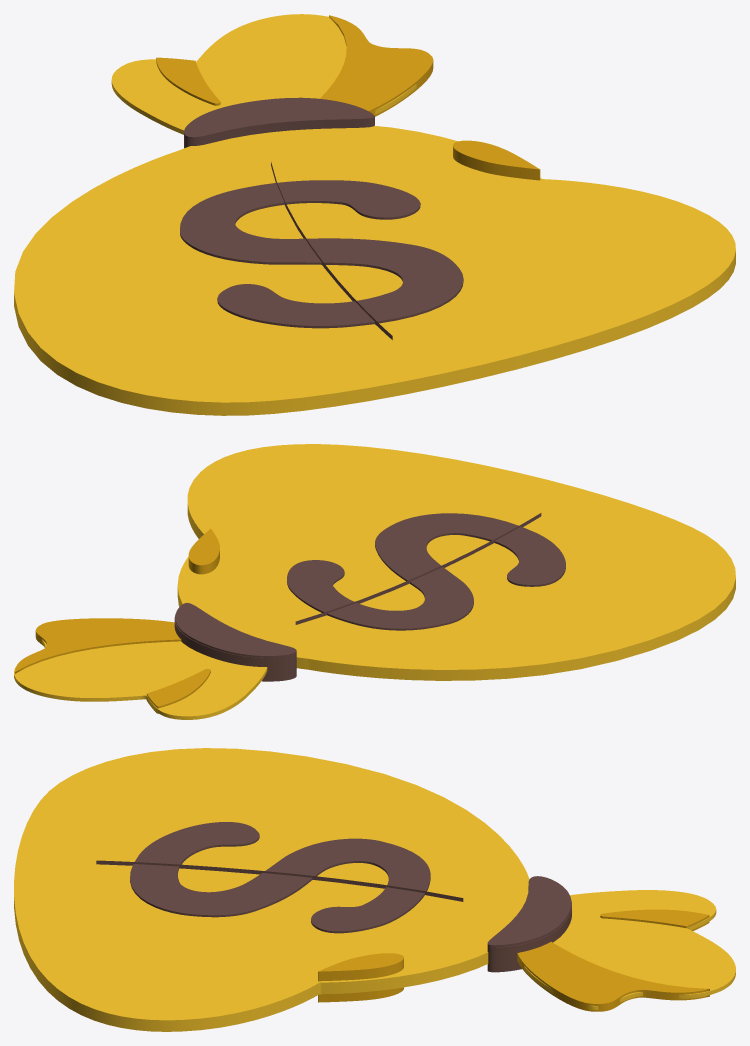
Rendered from emoji_u1f4b0.glb.
3 renders of one model, top to bottom at view 1: azimuth 30°, elevation 25°; view 2: azimuth 150°, elevation 25°; view 3: azimuth 270°, elevation 25°, orthographic. The views are drawn at different scales.
Visible parts, largest first — view 1: emoji_u1f4b0; view 2: emoji_u1f4b0; view 3: emoji_u1f4b0.
Boxes of the visible parts, box(x1,y1,x2,y2) form: emoji_u1f4b0: box(14, 14, 735, 415); emoji_u1f4b0: box(14, 444, 735, 719); emoji_u1f4b0: box(14, 748, 735, 1031).
Size of the model in its own units: 0.0302 by 0.0016 by 0.0339.
